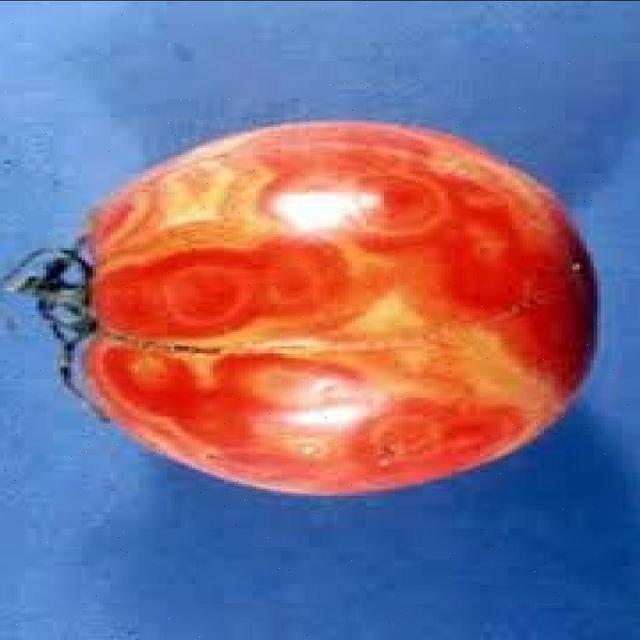Spotted wilt Virus Fruit: (198, 62, 480, 146)
